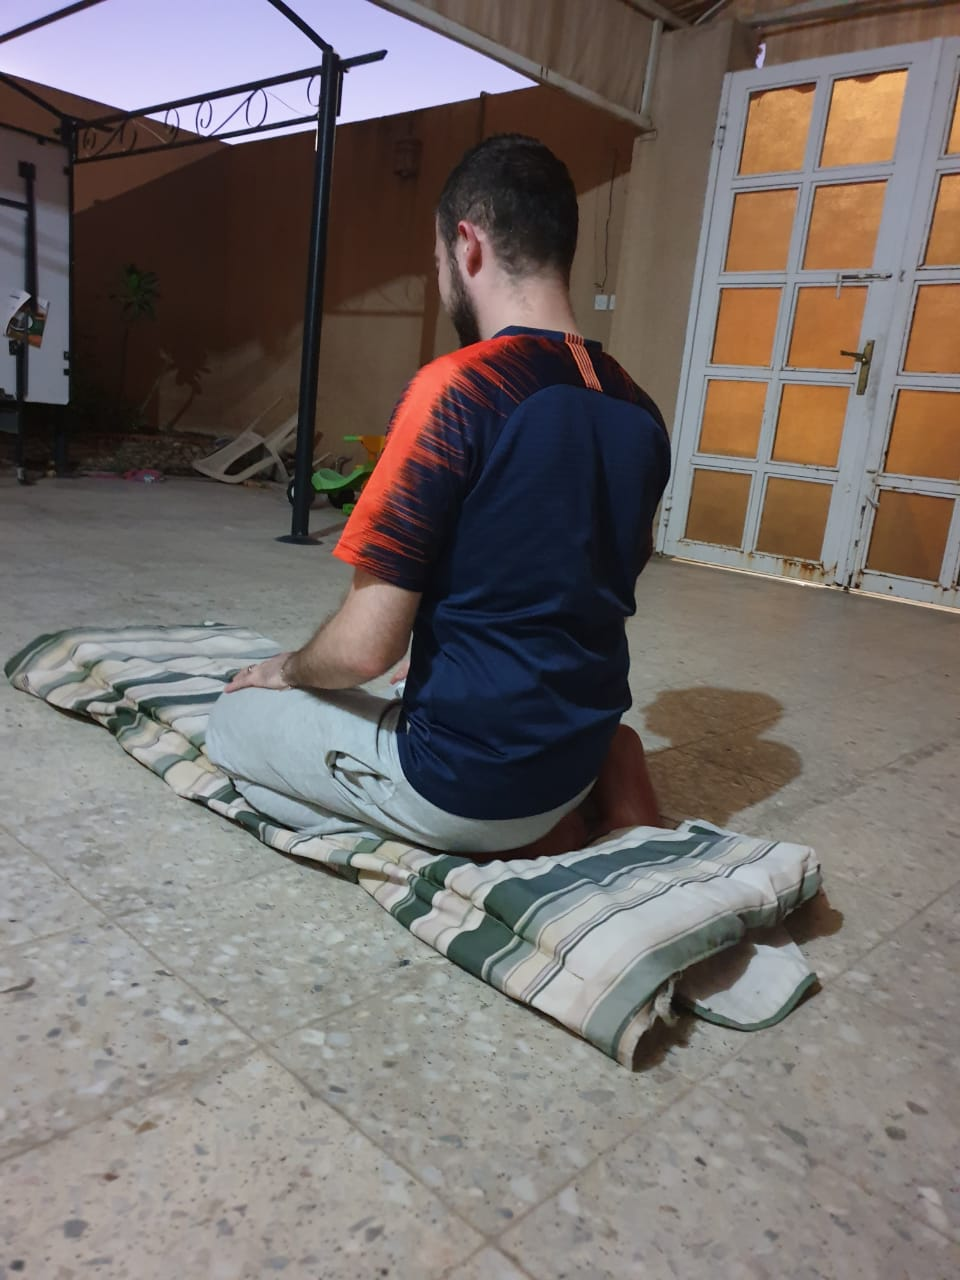sitting: (190, 103, 723, 865)
